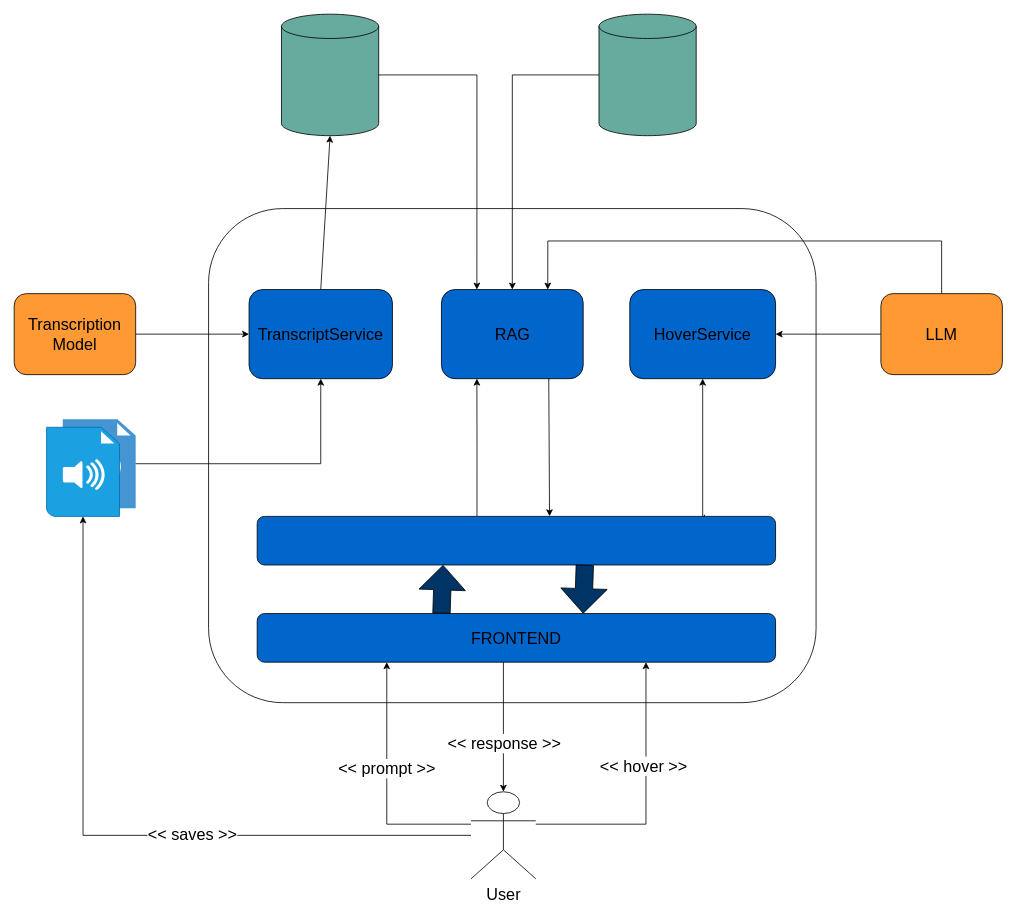
The diagram is 1017 pixels wide and 918 high, and some of its shapes have lost their labels. The centre of each missing label's shape, as x and y in pixels:
BACKEND: (516,540)
DB: (330,74)
vectorDB: (647,74)
